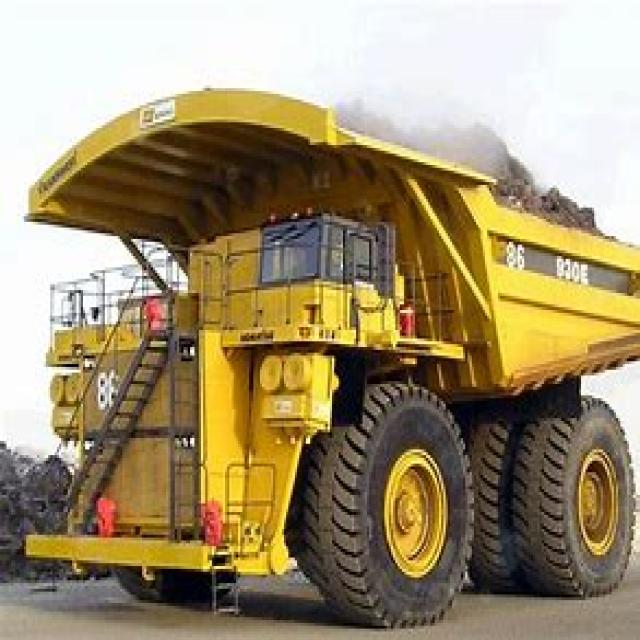dump_truck: (22, 76, 638, 628)
